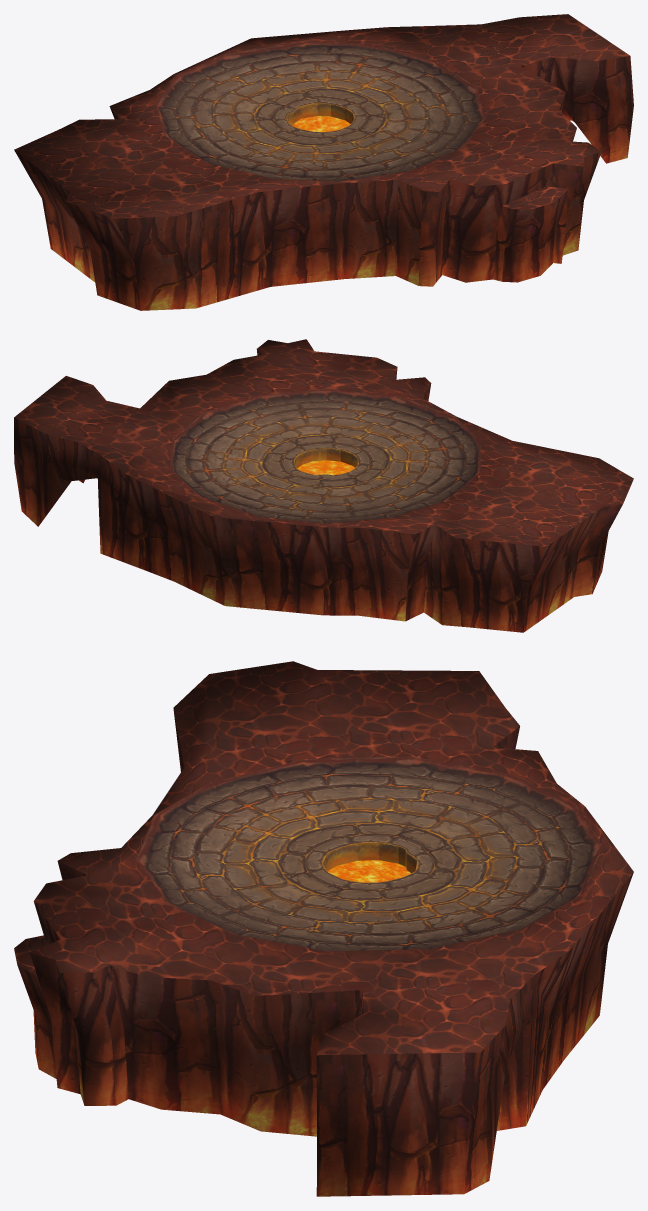
File: terrain01.FBX
3 views of the same model, one above another, from view 1: azimuth 30°, elevation 25°; view 2: azimuth 150°, elevation 25°; view 3: azimuth 270°, elevation 25° (orthographic). The views are drawn at different scales.
Parts seen in each view (by area): view 1: terrain01; view 2: terrain01; view 3: terrain01.
Boxes of the visible parts, x1,y1,x2,y2 form: terrain01: [14, 14, 633, 310]; terrain01: [14, 339, 633, 632]; terrain01: [14, 661, 633, 1196].
Bounding box in the file's own units: 4666 × 3083 × 851.
